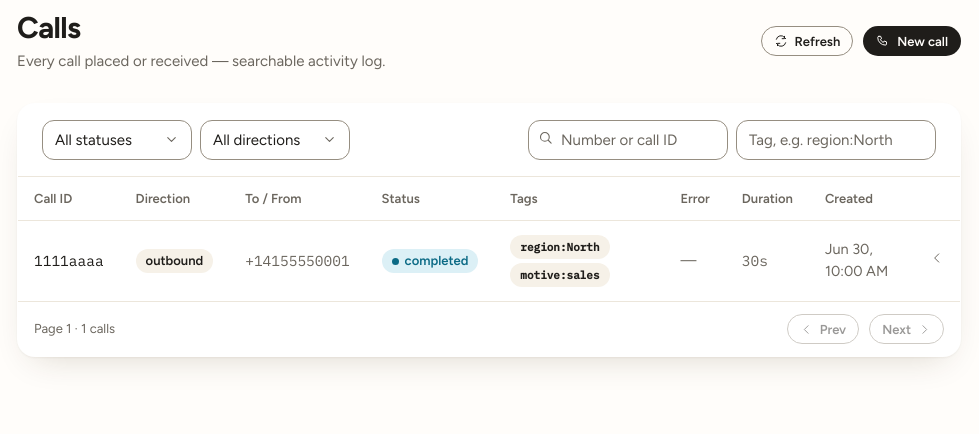
Calls page › adds a tag filter via the input and refetches with tags
Check: the button titled "Filter by region:North" is shown, box [510,235,610,259]
Type "region:North" into the field with placeholder "Tag, e.g. region:North" at [836, 140], box [736,120,936,160]
Then press Enter
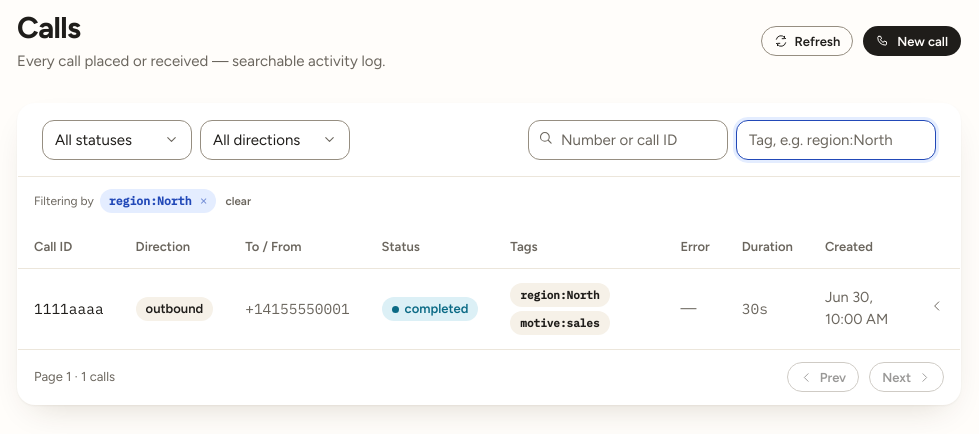
Check: the text "Filtering by" is shown, box [34,192,94,210]
